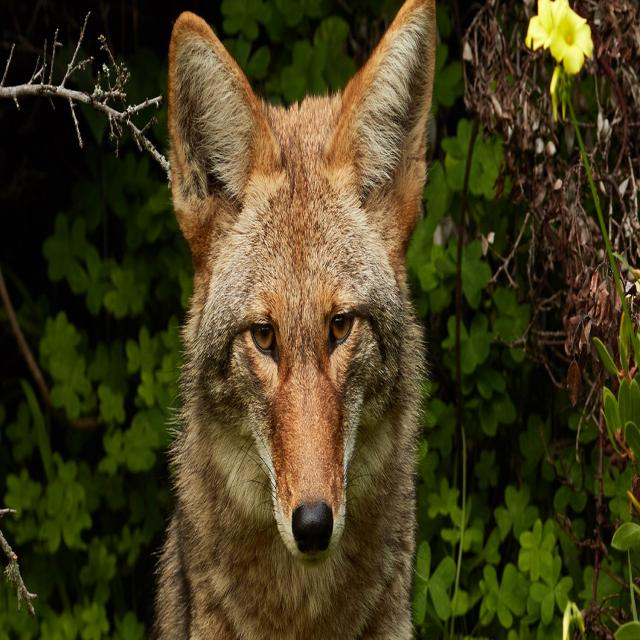coyote: (154, 0, 435, 639)
